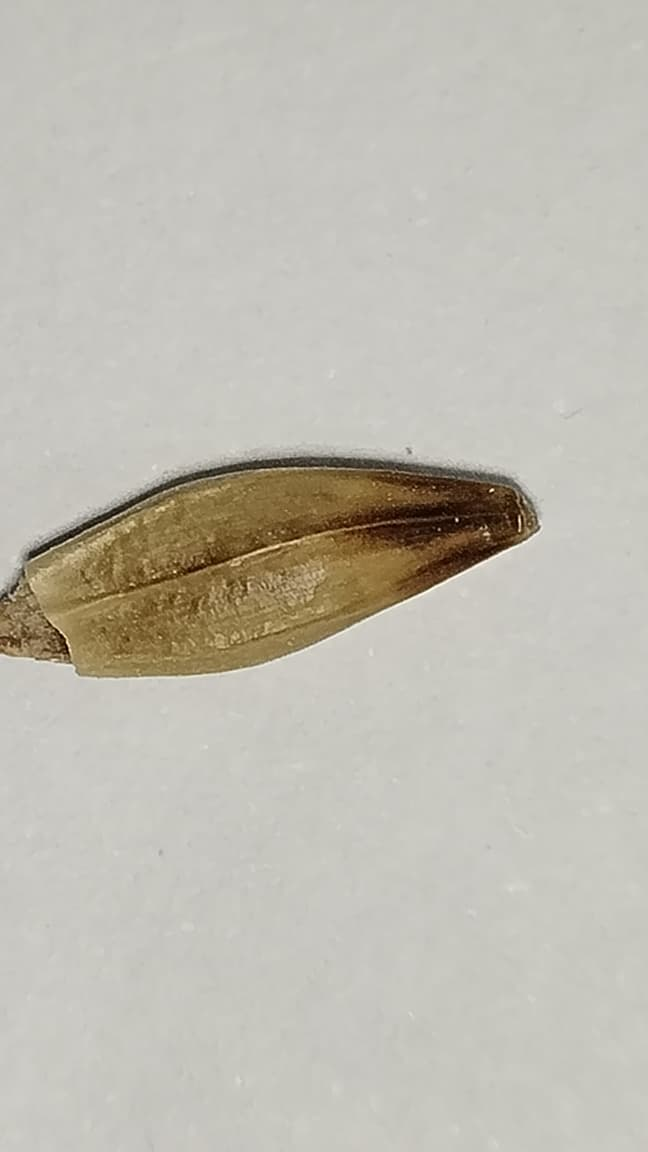damage: (0, 462, 534, 673)
insectdamage: (0, 576, 70, 662)
staindamage: (345, 468, 539, 594)
